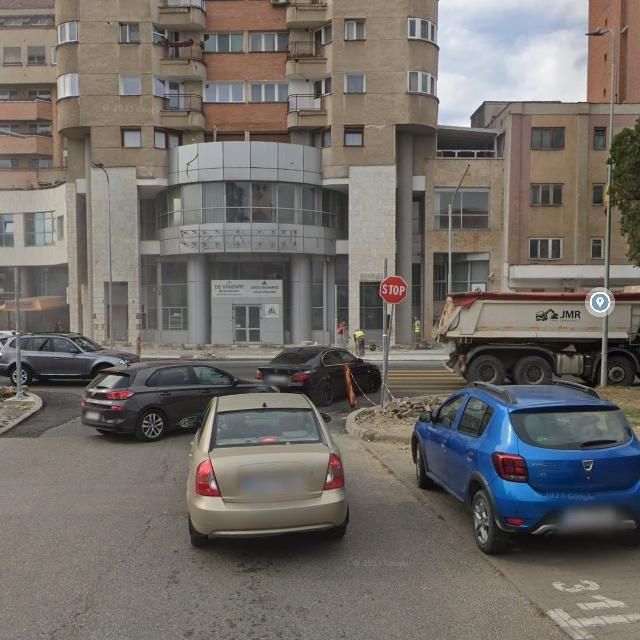prio_stop: (380, 276, 407, 304)
